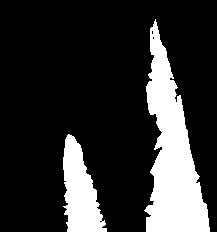Fire: (142, 16, 210, 232), (62, 134, 107, 232)
